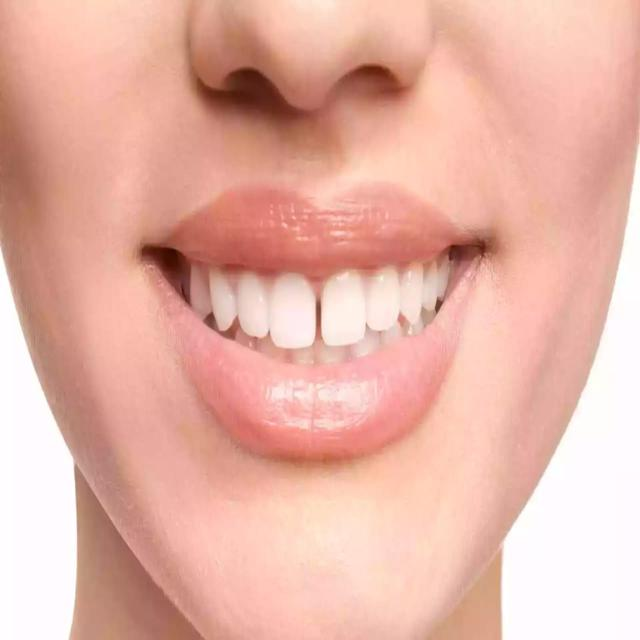tooth: (270, 268, 314, 346), (319, 268, 363, 344), (236, 265, 270, 332), (177, 261, 211, 311), (365, 276, 397, 329), (397, 259, 425, 319), (210, 268, 232, 326), (437, 258, 455, 304), (424, 271, 438, 309)
